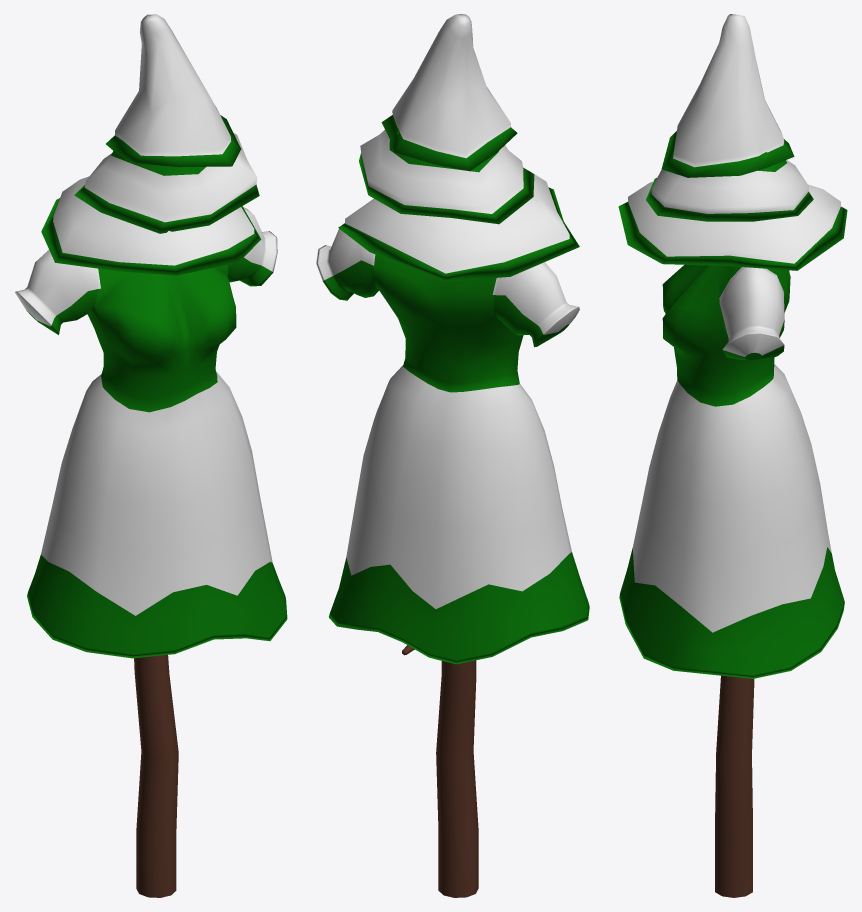
File: SW_TreeB3.fbx
3 views of the same model, side by side, from view 1: azimuth 30°, elevation 25°; view 2: azimuth 150°, elevation 25°; view 3: azimuth 270°, elevation 25° (orthographic).
Parts seen in each view (by area): view 1: dress, leaves5, trunk6; view 2: dress, leaves5, trunk6; view 3: dress, leaves5, trunk6.
Part boxes in pixels (left/top/right/bottom): dress: left=15, top=207, right=287, bottom=658; leaves5: left=41, top=14, right=261, bottom=275; trunk6: left=134, top=655, right=178, bottom=897; dress: left=316, top=229, right=589, bottom=664; leaves5: left=338, top=14, right=579, bottom=281; trunk6: left=402, top=645, right=478, bottom=897; dress: left=619, top=264, right=844, bottom=678; leaves5: left=618, top=14, right=847, bottom=270; trunk6: left=715, top=675, right=754, bottom=897.
Bounding box in the file's own units: 791 × 2605 × 619.
